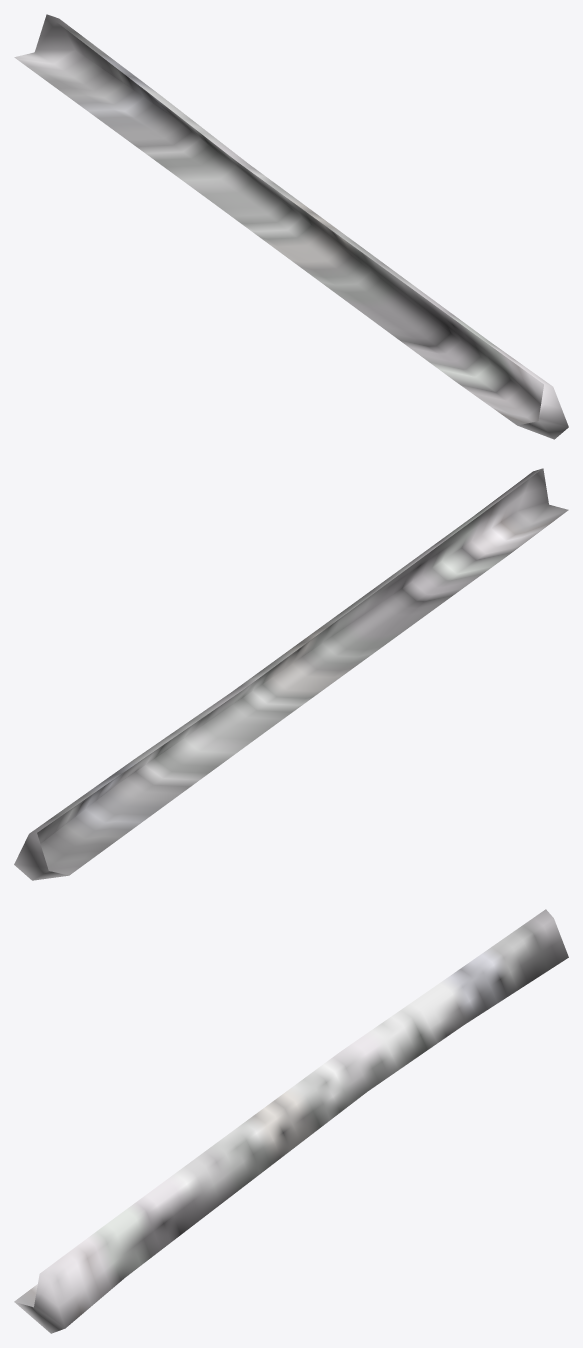
The picture shows the model from 3 angles, top to bottom: view 1: azimuth 30°, elevation 25°; view 2: azimuth 150°, elevation 25°; view 3: azimuth 330°, elevation 25°; orthographic projection.
Parts seen in each view (by area): view 1: wg_r_c_j; view 2: wg_r_c_j; view 3: wg_r_c_j.
Part boxes in pixels (bbox=[...]): wg_r_c_j: bbox=[14, 14, 568, 439]; wg_r_c_j: bbox=[14, 468, 568, 880]; wg_r_c_j: bbox=[14, 909, 568, 1333].
Bounding box in the file's own units: 0.1468 × 0.137 × 2.14.
Materials: 1 (1 with a texture image).
